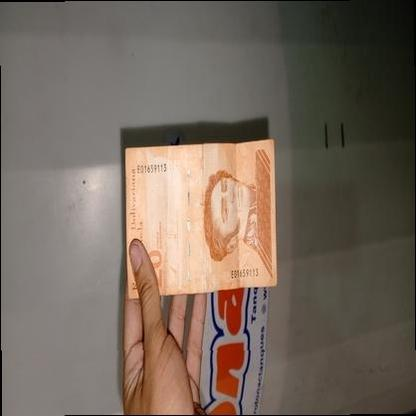twenty-front-vef: (125, 140, 277, 300)
